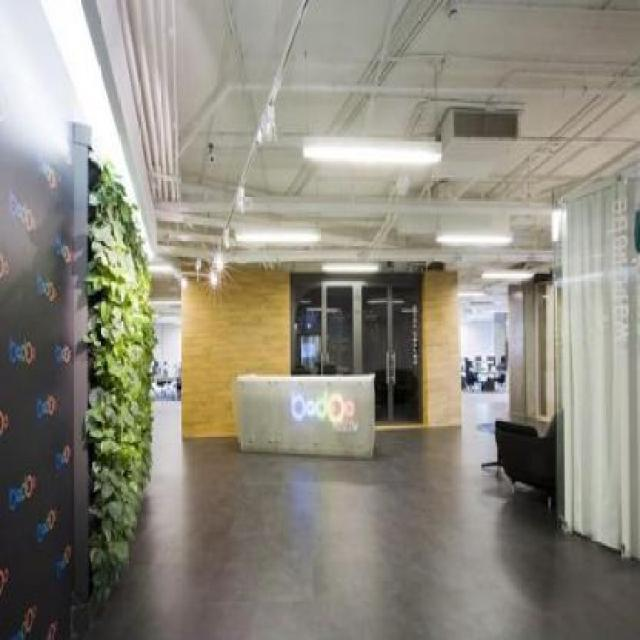frontdesk: (229, 358, 387, 461)
